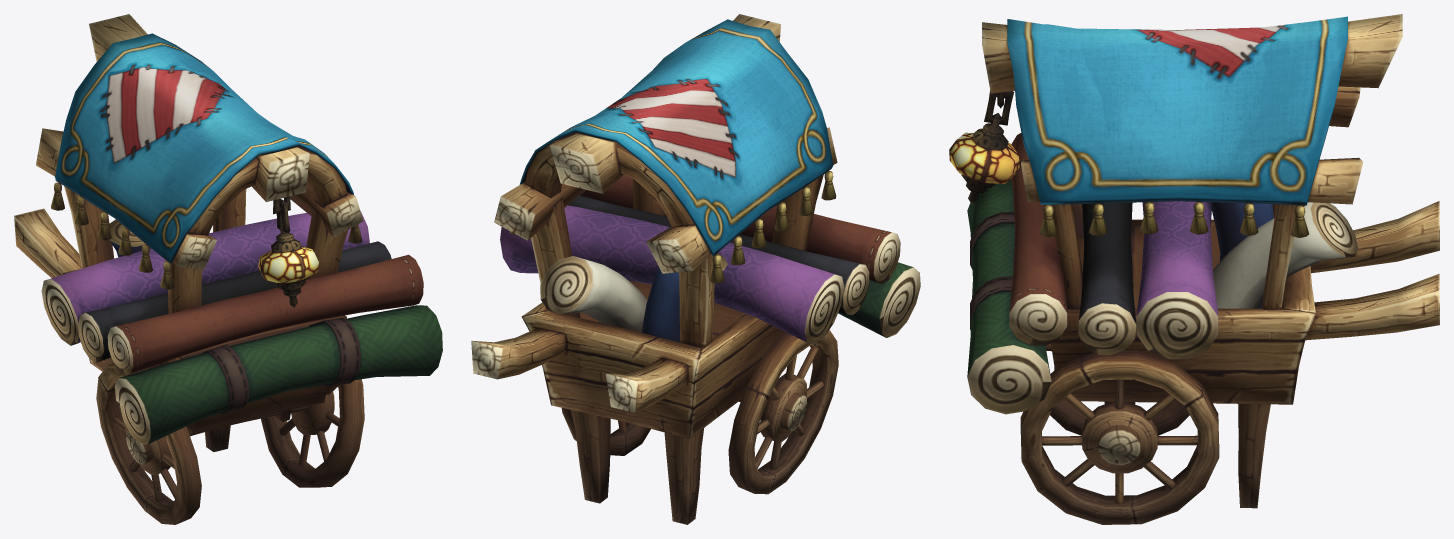
Rendered from carreta.fbx.
The picture shows the model from 3 angles, left to right: view 1: azimuth 30°, elevation 25°; view 2: azimuth 150°, elevation 25°; view 3: azimuth 270°, elevation 25°; orthographic projection. The views are drawn at different scales.
Parts seen in each view (by area): view 1: caravane001_UVsymmetrie; view 2: caravane001_UVsymmetrie; view 3: caravane001_UVsymmetrie.
Part boxes in pixels (x1,y1,x2,y2): caravane001_UVsymmetrie: (14,14,442,524); caravane001_UVsymmetrie: (471,14,920,524); caravane001_UVsymmetrie: (949,14,1439,524).
Size of the model in its own units: 293 by 364 by 355.
1 material, 1 textured.
